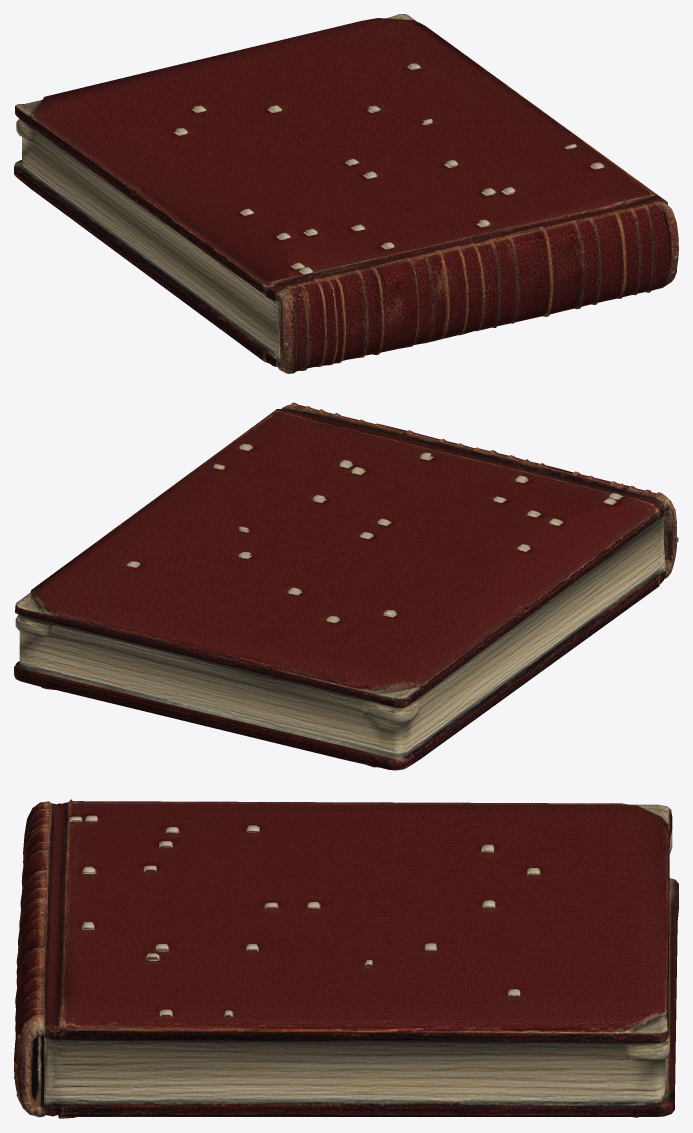
The model's file is RedBook.fbx.
The picture shows the model from 3 angles, top to bottom: view 1: azimuth 30°, elevation 25°; view 2: azimuth 150°, elevation 25°; view 3: azimuth 270°, elevation 25°; orthographic projection. The views are drawn at different scales.
Parts seen in each view (by area): view 1: tripo_node_09b2f30c-b9a0-4266-9276-f2ae0dd3bb63; view 2: tripo_node_09b2f30c-b9a0-4266-9276-f2ae0dd3bb63; view 3: tripo_node_09b2f30c-b9a0-4266-9276-f2ae0dd3bb63.
Boxes of the visible parts, x1,y1,x2,y2 form: tripo_node_09b2f30c-b9a0-4266-9276-f2ae0dd3bb63: (14,14,678,373); tripo_node_09b2f30c-b9a0-4266-9276-f2ae0dd3bb63: (14,402,678,770); tripo_node_09b2f30c-b9a0-4266-9276-f2ae0dd3bb63: (14,799,678,1118).
Bounding box in the file's own units: 80.43 × 17.61 × 99.8.
Materials: 1 (1 with a texture image).
